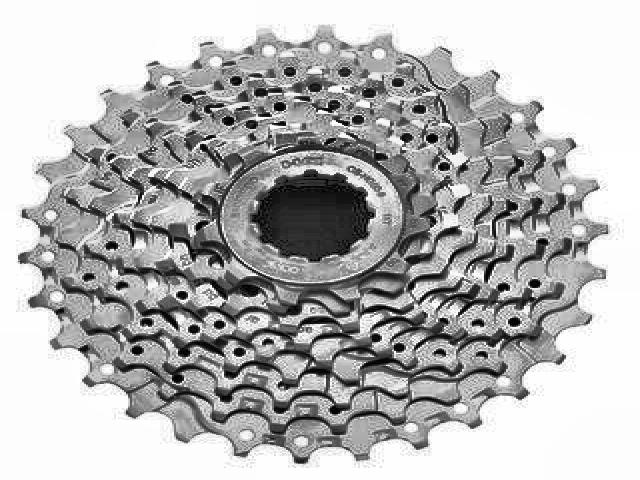cassette: (18, 21, 613, 463)
